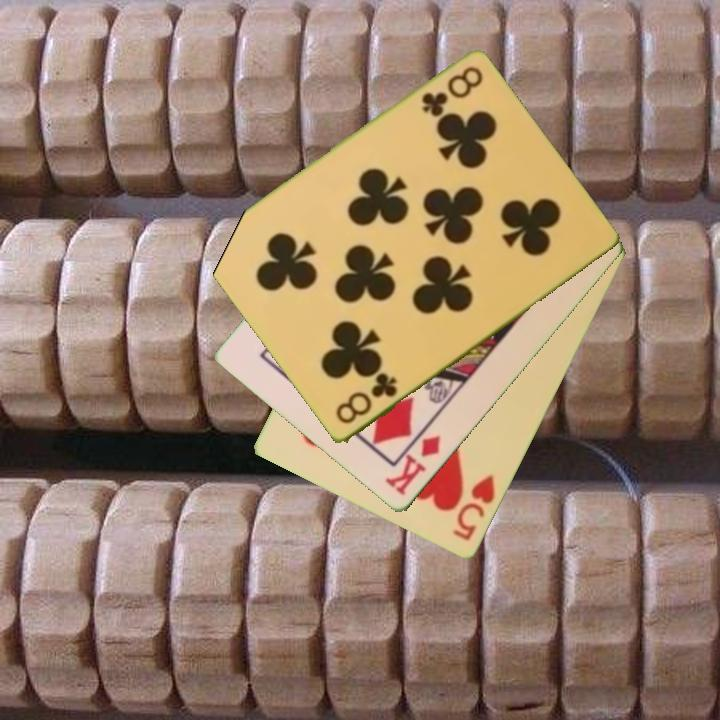5h: (449, 471, 498, 544)
8c: (331, 370, 401, 428), (417, 63, 486, 119)
Kd: (382, 432, 444, 499)
